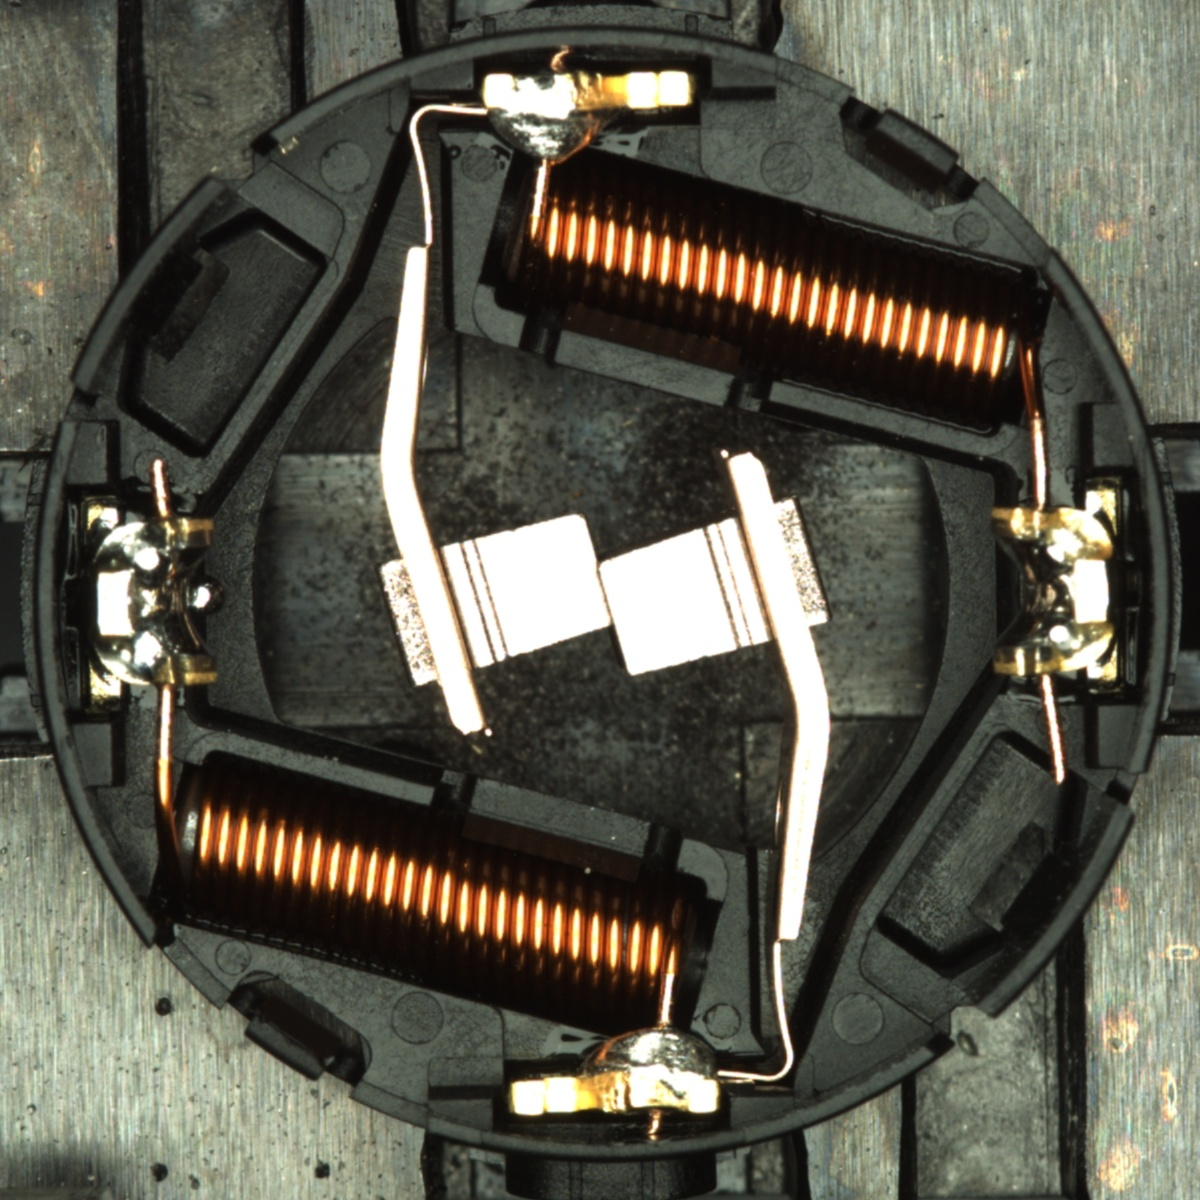1: (256, 31, 485, 256), (714, 929, 943, 1154)
2: (714, 31, 943, 256), (256, 929, 485, 1154)
3: (26, 256, 256, 480), (943, 705, 1173, 929)
4: (256, 256, 485, 480), (714, 705, 943, 929)
5: (485, 144, 714, 368), (485, 817, 714, 1041)
6: (714, 256, 943, 480), (256, 705, 485, 929)
7: (943, 256, 1173, 480), (26, 705, 256, 929)
cacbon: (400, 500, 799, 685)
chau_dien: (80, 497, 222, 703), (983, 488, 1124, 687)
hat_chi: (184, 577, 225, 617)
tay_choi: (481, 68, 697, 170), (506, 1020, 721, 1119)
thanh_de: (954, 786, 1143, 1033), (59, 165, 243, 405)
